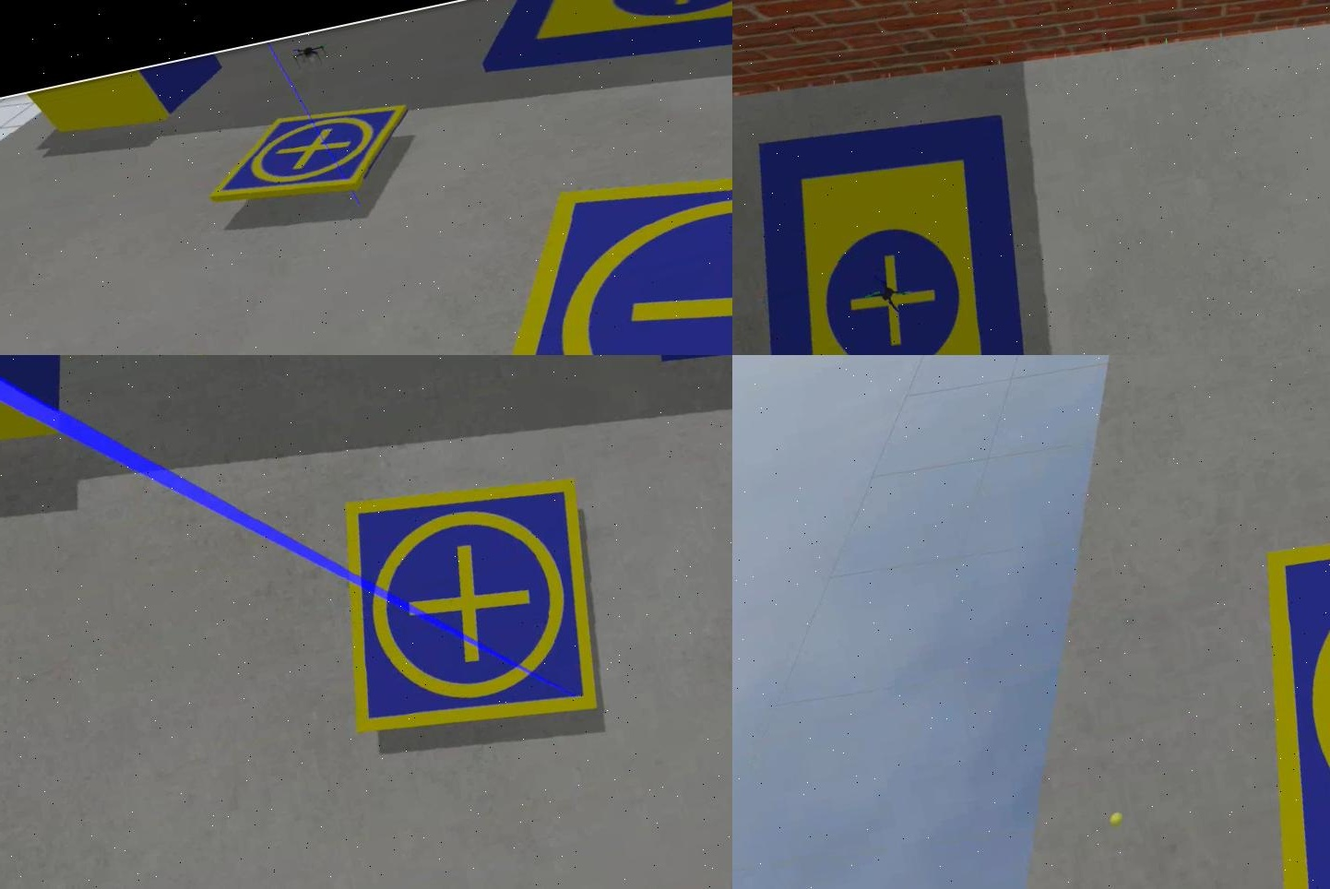large_base: (731, 95, 1076, 356), (463, 1, 731, 108)
small_base: (303, 457, 619, 760), (402, 96, 731, 356), (192, 91, 417, 217)
